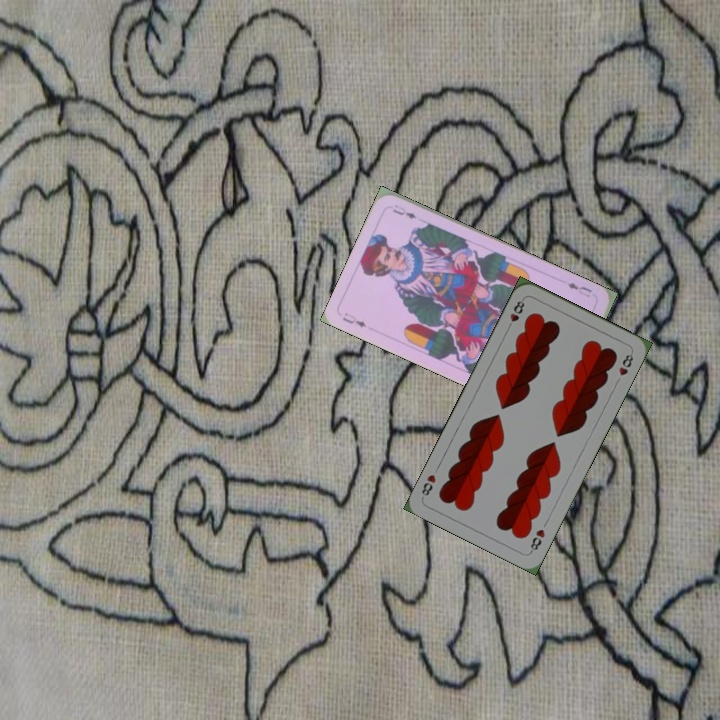EU: (563, 278, 594, 300), (338, 308, 369, 330)
H8: (503, 295, 527, 332), (526, 525, 548, 555)
